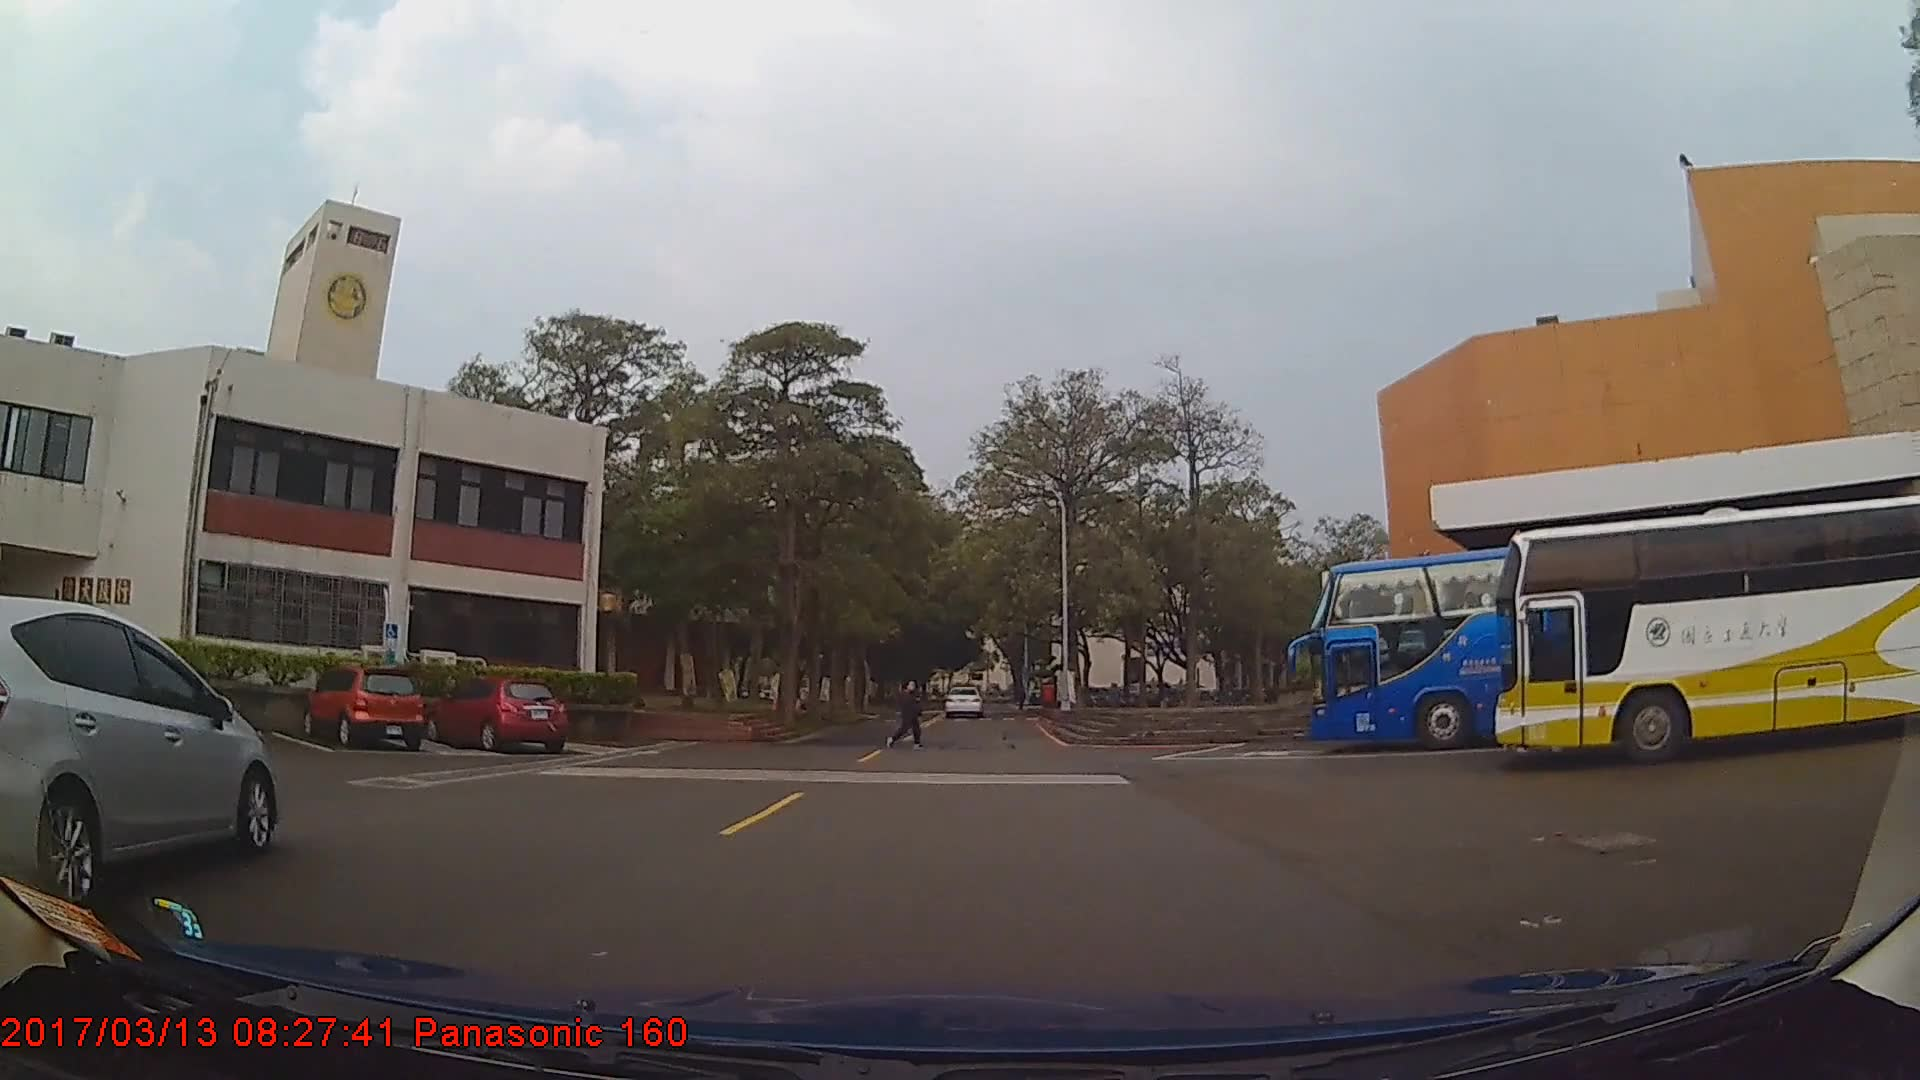pedestrian: (898, 675, 925, 748)
vehicle: (1305, 529, 1920, 751), (1495, 492, 1920, 765), (0, 594, 278, 913), (424, 673, 570, 750), (300, 663, 425, 748), (943, 682, 984, 718)
